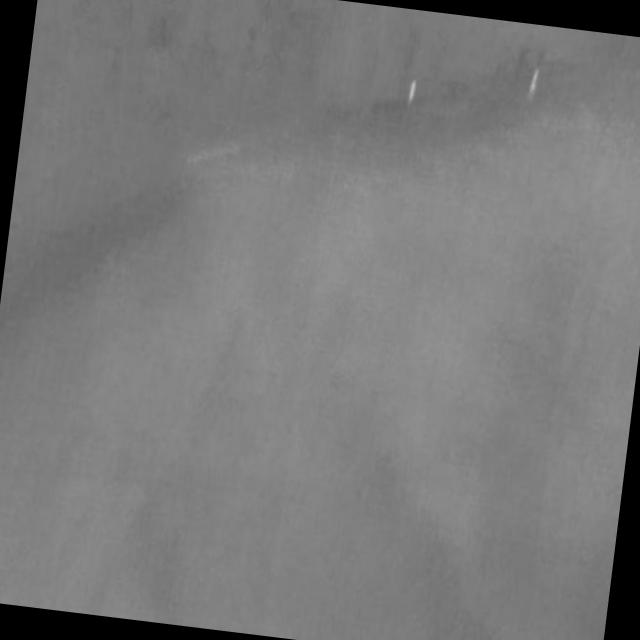person: (406, 79, 417, 107), (528, 76, 537, 100), (532, 67, 540, 90)
